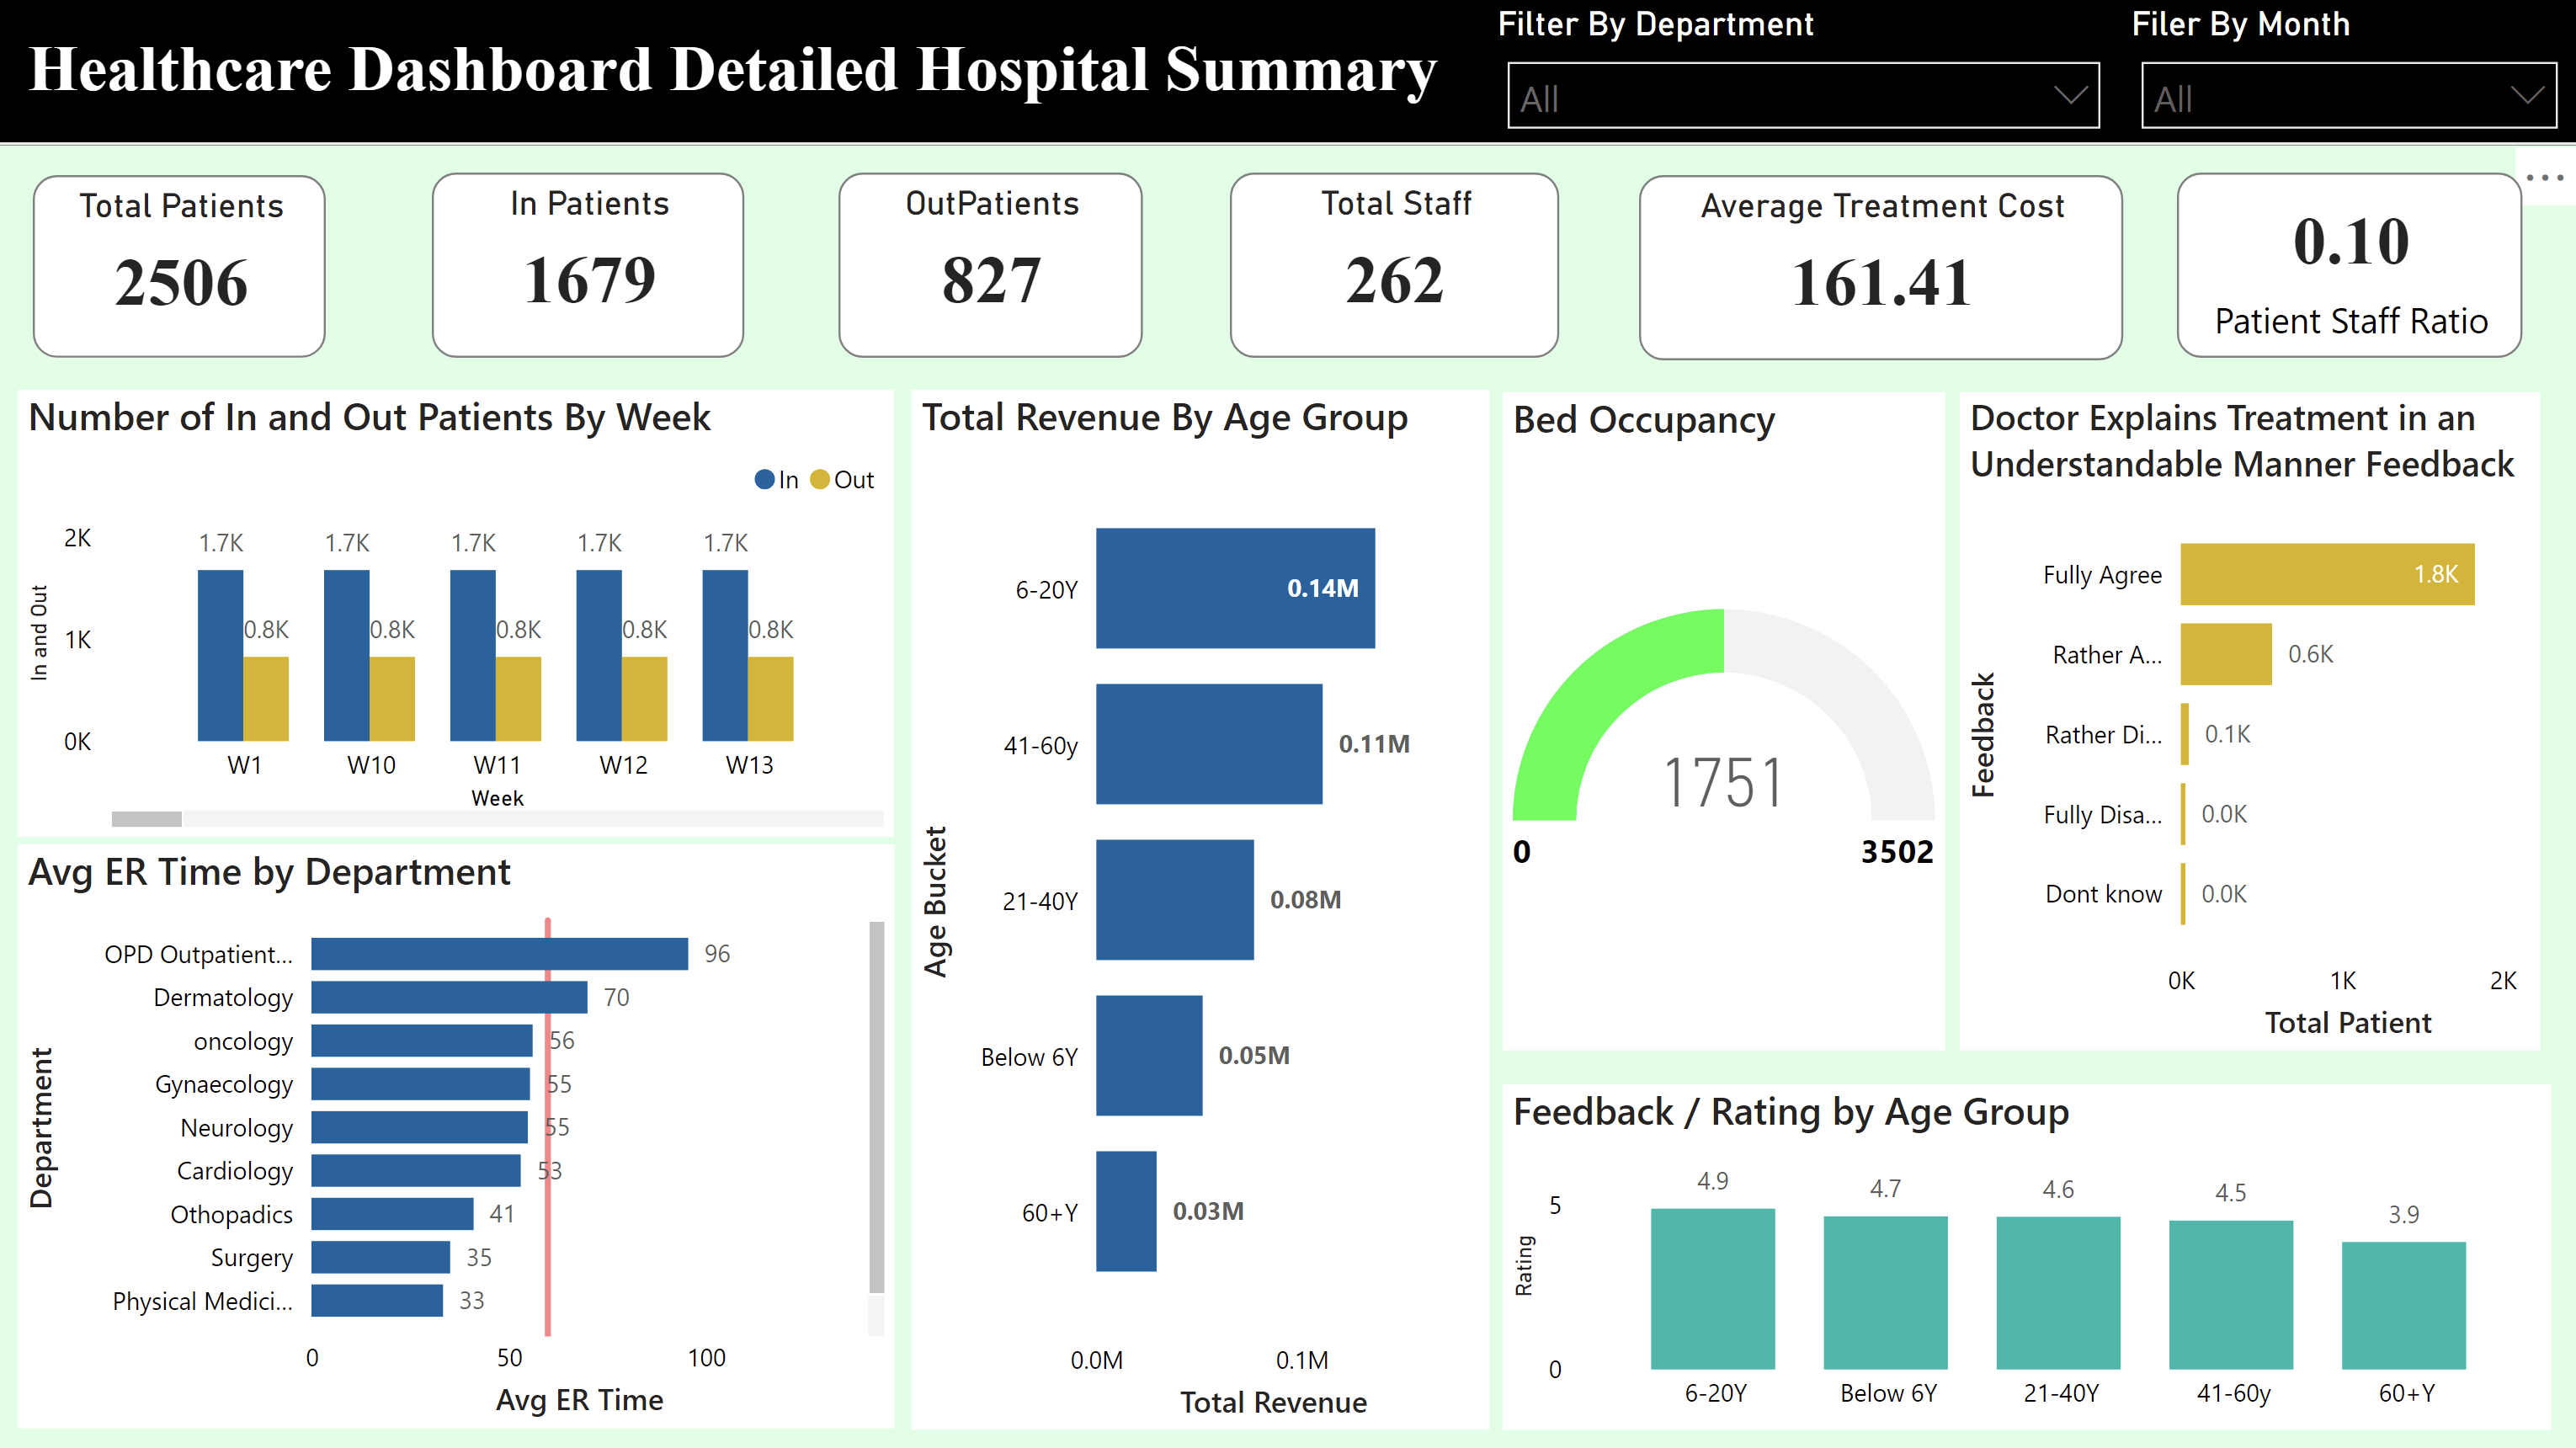

The page's visual inventory and layout, read from the dashboard file:
{"tool":"powerbi","page":{"name":"Hospital Dashboard","canvas":[1280,720],"ordinal":0},"visuals":[{"type":"shape","box":[0,0,1280,75.3],"z":0},{"type":"cardVisual","title":"Total Patients","fields":{"Data":["Measure.Total Patient"]},"box":[20.5,90.4,145.1,90.4],"z":2000},{"type":"textbox","box":[12.3,13.7,720.1,54.8],"z":3000},{"type":"slicer","title":"Filter By Department","fields":{"Values":["Department.Department_Name"]},"box":[740.6,5.5,313.5,69.8],"z":4000},{"type":"slicer","title":"Filer By Month","fields":{"Values":["Calendar_date.MonthName"]},"box":[1054.1,5.5,225.9,63],"z":5000},{"type":"cardVisual","title":"In Patients","fields":{"Data":["Measure.In Patient"]},"box":[217.7,89,154.7,91.7],"z":6000},{"type":"cardVisual","title":"OutPatients","fields":{"Data":["Measure.Outpatient"]},"box":[418.9,89,150.6,91.7],"z":7000},{"type":"cardVisual","title":"Total Staff ","fields":{"Data":["Bed_Detail.total Staff"]},"box":[611.9,89,162.9,91.7],"z":8000},{"type":"cardVisual","title":"Average Treatment Cost","fields":{"Data":["Measure.Avg Treatment Cost"]},"box":[814.5,90.4,239.6,91.7],"z":9000},{"type":"cardVisual","fields":{"Data":["Bed_Detail.Patient Staff Ratio"]},"box":[1081.5,89,171.1,91.7],"z":10000},{"type":"clusteredColumnChart","title":"Number of In and Out Patients By Week","fields":{"Y":["Calendar_date.In Patient","Calendar_date.Outpatient"],"Category":["Calendar_date.WeekName"]},"box":[12.5,196.2,433.8,221.2],"z":11000},{"type":"gauge","title":"Bed Occupancy","fields":{"Y":["Divide(Measure.Occupied Bed, ScopedEval(Measure.Occupied Bed, []))"]},"box":[747.5,197.1,219,325.8],"z":12000},{"type":"clusteredBarChart","title":"Total Revenue By Age Group","fields":{"Y":["Measure.Total Revenue"],"Category":["Detail data dataset.Age Bucket"]},"box":[454.5,195.8,286.1,514.7],"z":13000},{"type":"barChart","fields":{"Y":["Measure.Avg ER Time"],"Category":["Department.Department_Name"]},"box":[12.3,421.6,434,288.9],"z":14000},{"type":"barChart","title":"Doctor Explains Treatment in an Understandable Manner Feedback","fields":{"Y":["Measure.Total Patient"],"Category":["Detail data dataset.Feedback"]},"box":[973.3,197.1,287.5,325.8],"z":15000},{"type":"columnChart","title":"Feedback / Rating by Age Group","fields":{"Y":["Measure.Rating"],"Category":["Detail data dataset.Age Bucket"]},"box":[747.5,539.4,518.8,171.1],"z":16000}]}

Visuals, with their boxes in screenshot pixels (x1, y1, x2, y2), scaled from the page's 1280x720 canvas onto the 2576x1448 screenshot:
shape: 0 0 2575 152
"Total Patients" cardVisual: 41 182 333 364
textbox: 24 28 1474 138
"Filter By Department" slicer: 1490 11 2121 152
"Filer By Month" slicer: 2121 11 2575 138
"In Patients" cardVisual: 438 179 749 364
"OutPatients" cardVisual: 843 179 1146 364
"Total Staff " cardVisual: 1232 179 1559 364
"Average Treatment Cost" cardVisual: 1639 182 2121 366
cardVisual - Bed_Detail.Patient Staff Ratio: 2176 179 2520 364
"Number of In and Out Patients By Week" clusteredColumnChart: 25 395 898 839
"Bed Occupancy" gauge: 1504 397 1945 1051
"Total Revenue By Age Group" clusteredBarChart: 915 394 1490 1429
barChart - Measure.Avg ER Time x Department.Department_Name: 24 848 898 1429
"Doctor Explains Treatment in an Understandable Manner Feedback" barChart: 1959 397 2537 1051
"Feedback / Rating by Age Group" columnChart: 1504 1085 2548 1429
